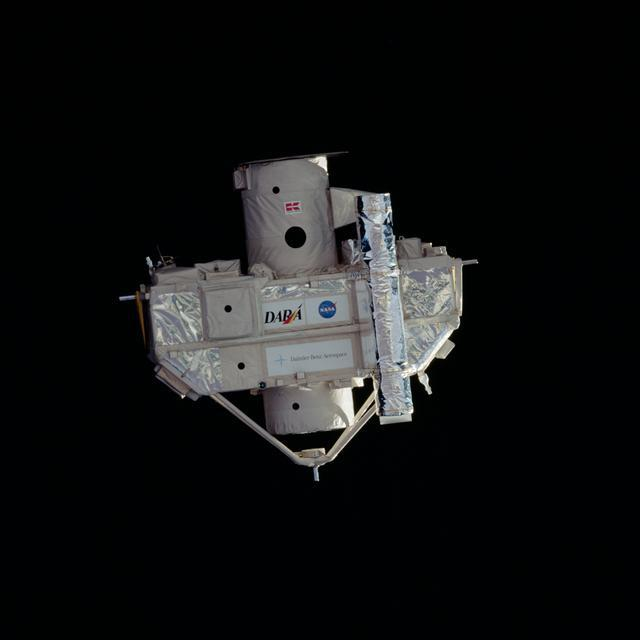medium_debris: (131, 155, 476, 479)
